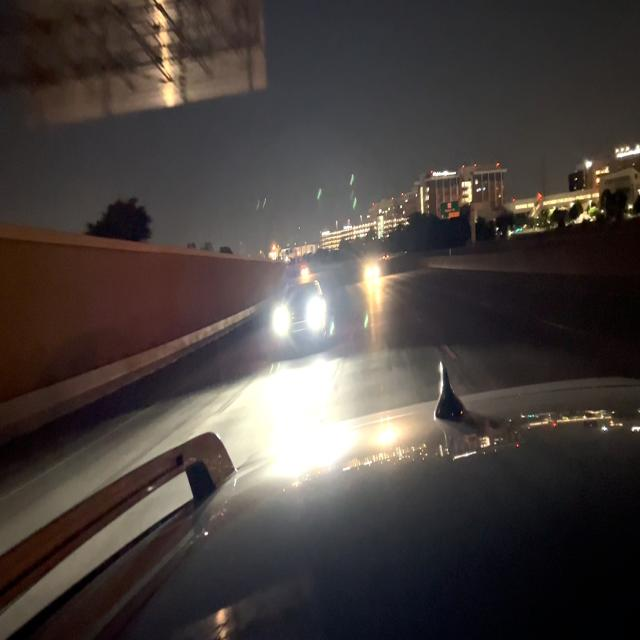back-of-sign: (16, 0, 267, 125)
